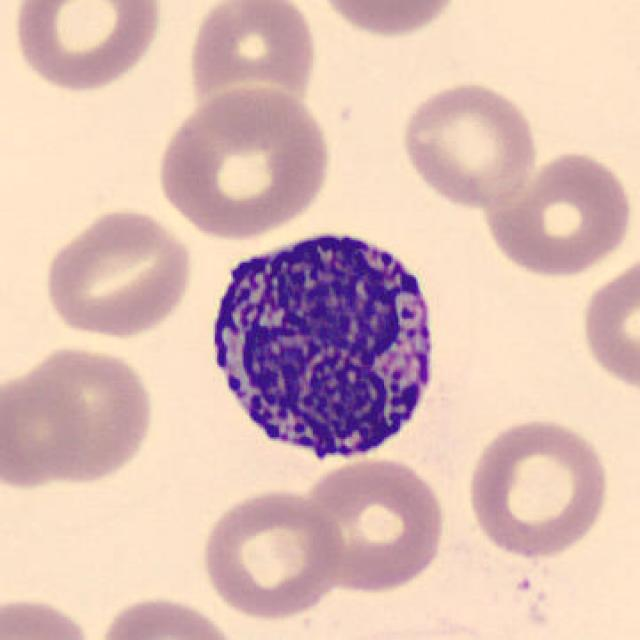Basophil: (194, 213, 450, 478)
RBC: (151, 83, 338, 241), (5, 340, 160, 490), (462, 412, 614, 560), (39, 205, 197, 342), (478, 147, 636, 280), (298, 455, 449, 594), (197, 485, 347, 622), (396, 77, 540, 212), (183, 0, 322, 122), (7, 0, 167, 95), (0, 362, 87, 496), (576, 248, 638, 398), (92, 590, 243, 640), (308, 0, 468, 41), (0, 590, 99, 640), (334, 617, 512, 640)
